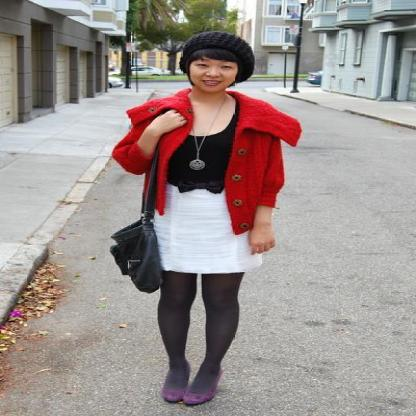bag: (112, 214, 166, 293)
hat: (166, 32, 268, 87)
jacket: (112, 86, 300, 241)
shirt: (166, 94, 240, 192)
shoe: (162, 374, 219, 407)
skirt: (150, 184, 262, 274)
